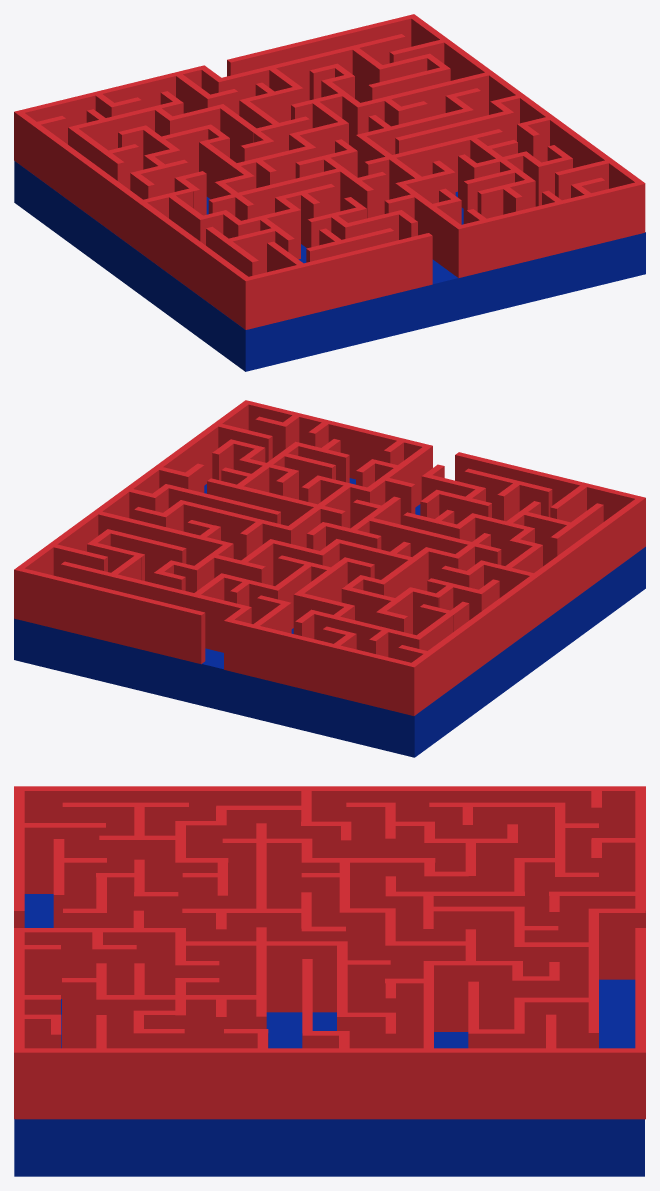
The model's file is Maze.fbx.
The picture shows the model from 3 angles, top to bottom: view 1: azimuth 30°, elevation 25°; view 2: azimuth 150°, elevation 25°; view 3: azimuth 270°, elevation 25°; orthographic projection. The views are drawn at different scales.
Visible parts, largest first — view 1: BoardMesh; view 2: BoardMesh; view 3: BoardMesh.
Boxes of the visible parts, x1=… form: BoardMesh: x1=14, y1=14, x2=645, y2=371; BoardMesh: x1=14, y1=400, x2=645, y2=757; BoardMesh: x1=14, y1=786, x2=645, y2=1176.
Size of the model in its own units: 300 by 301 by 64.91.
